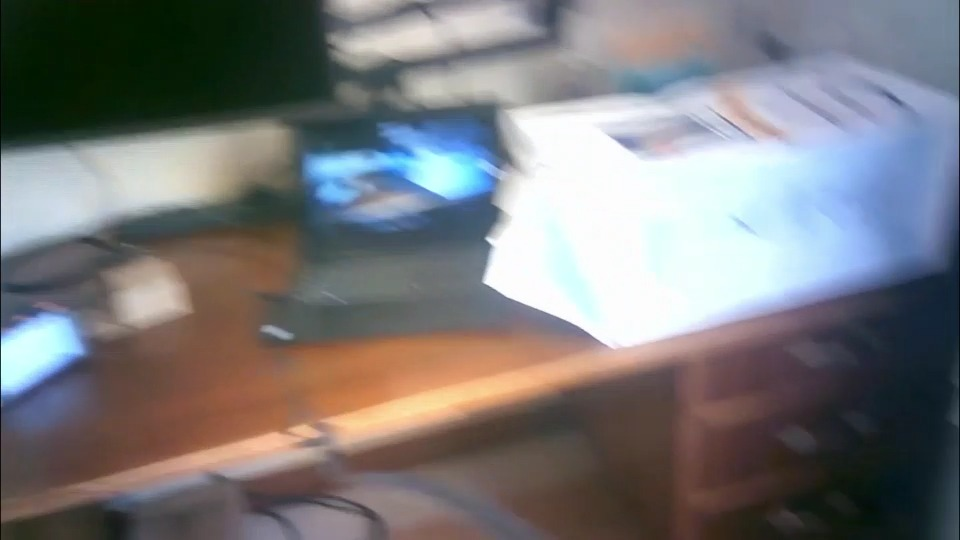wheat_flour_blue_label: (505, 50, 960, 344)
